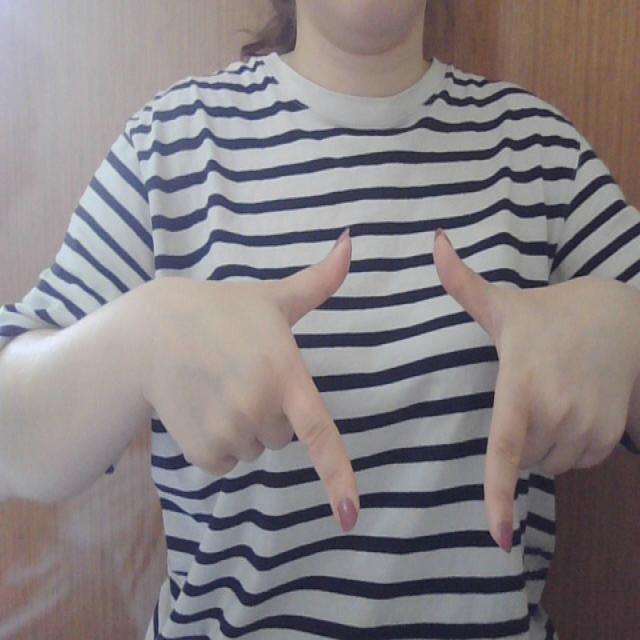Nerede: (237, 218, 542, 543)
